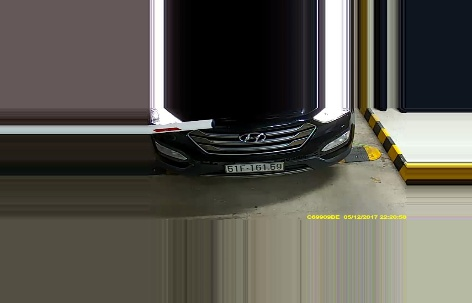plate: (224, 161, 284, 172)
